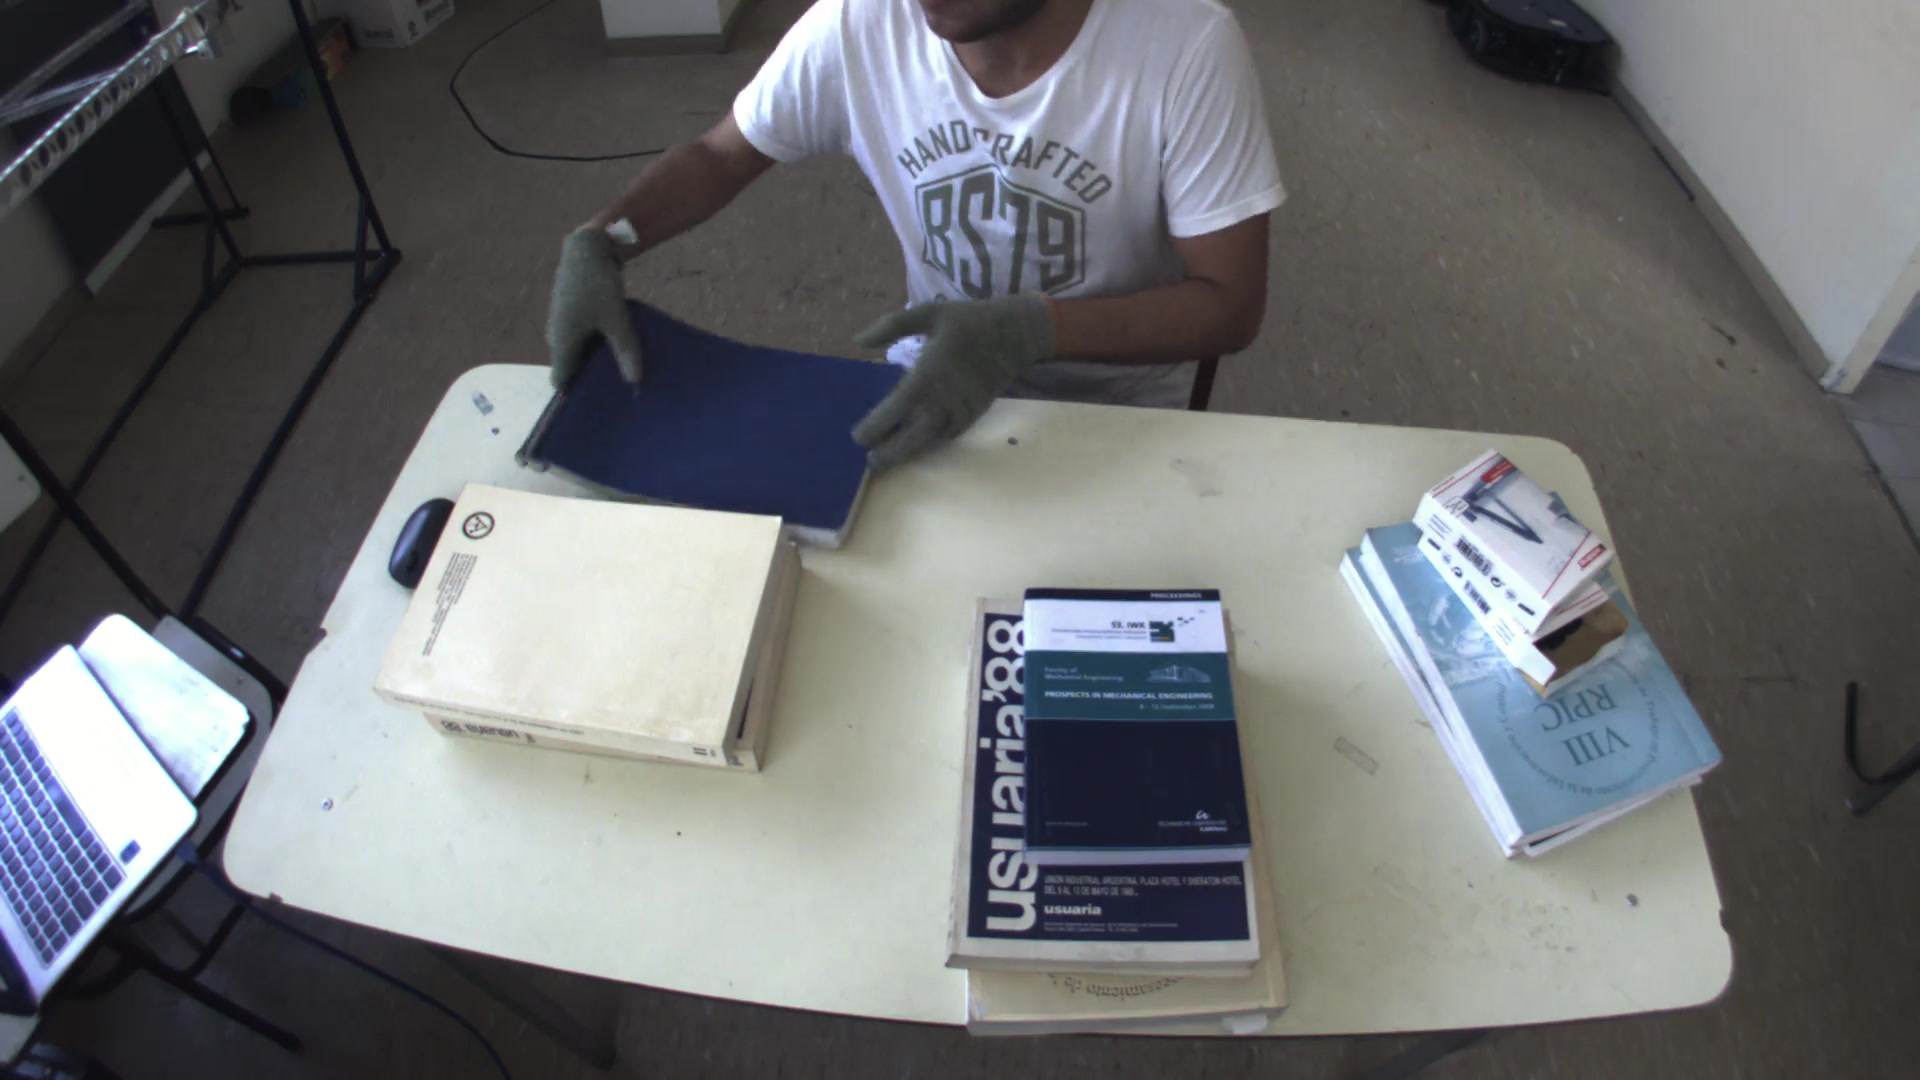hand: (836, 272, 1054, 467), (533, 219, 647, 394)
